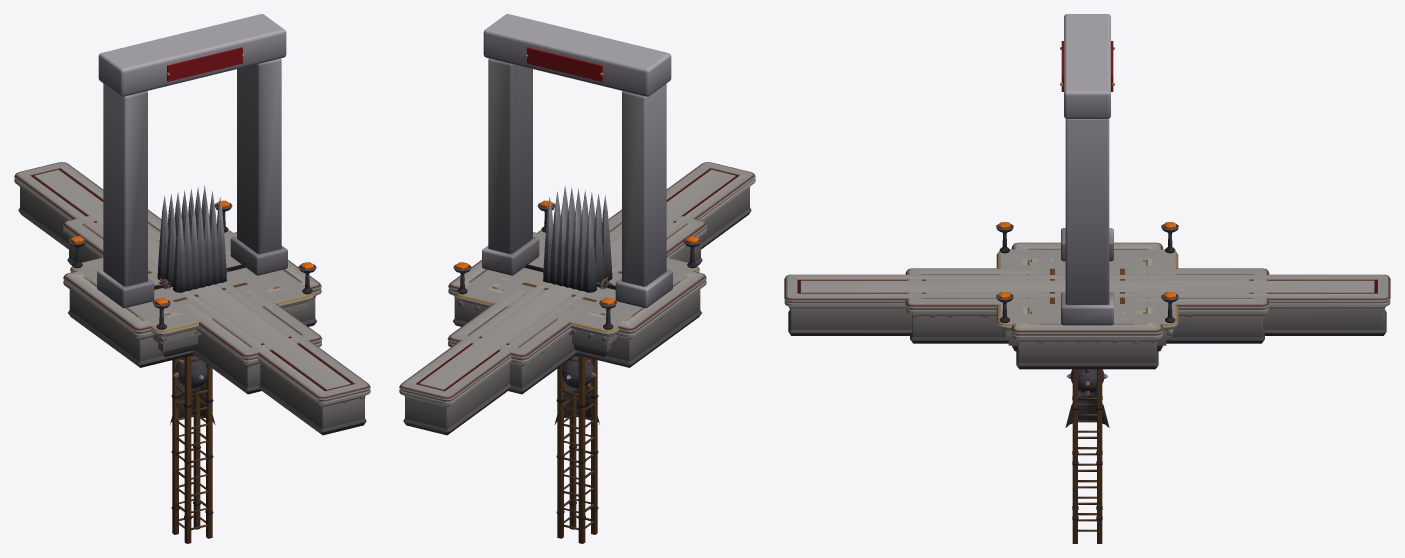
The model's file is fortress-2-Eq580Qz-.glb.
3 views of the same model, side by side, from view 1: azimuth 30°, elevation 25°; view 2: azimuth 150°, elevation 25°; view 3: azimuth 270°, elevation 25° (orthographic).
Visible parts, largest first — view 1: pressFrame_8x6x1.5x7#0, block_4x2x40_grate#0, block_6x2x24#0, truss_18#0, block_14x2x10#0, pad_12x2x12#0, spikes_4x6x3#0, spikes_3x6x3#0, block_12x2x7#0, blade_3x8x1#0, support_0_round#0; view 2: pressFrame_8x6x1.5x7#0, block_4x2x40_grate#0, block_6x2x24#0, truss_18#0, block_14x2x10#0, pad_12x2x12#0, spikes_4x6x3#0, spikes_3x6x3#0, block_12x2x7#0, blade_3x8x1#0, support_0_round#0; view 3: block_4x2x40_grate#0, pressFrame_8x6x1.5x7#0, block_6x2x24#0, block_14x2x10#0, pad_12x2x12#0, truss_18#0, block_12x2x7#0.
Part boxes in pixels (left/top/right/bottom): pressFrame_8x6x1.5x7#0: left=97, top=14, right=287, bottom=308; block_4x2x40_grate#0: left=14, top=162, right=370, bottom=435; block_6x2x24#0: left=62, top=209, right=322, bottom=394; truss_18#0: left=171, top=355, right=213, bottom=543; block_14x2x10#0: left=63, top=232, right=321, bottom=367; pad_12x2x12#0: left=68, top=200, right=316, bottom=356; spikes_4x6x3#0: left=157, top=185, right=226, bottom=292; spikes_3x6x3#0: left=168, top=187, right=220, bottom=290; block_12x2x7#0: left=90, top=246, right=294, bottom=316; blade_3x8x1#0: left=173, top=356, right=207, bottom=390; support_0_round#0: left=170, top=358, right=215, bottom=424; pressFrame_8x6x1.5x7#0: left=482, top=14, right=672, bottom=308; block_4x2x40_grate#0: left=399, top=162, right=755, bottom=435; block_6x2x24#0: left=447, top=209, right=707, bottom=394; truss_18#0: left=556, top=355, right=598, bottom=543; block_14x2x10#0: left=448, top=232, right=706, bottom=367; pad_12x2x12#0: left=453, top=200, right=701, bottom=356; spikes_4x6x3#0: left=543, top=185, right=612, bottom=292; spikes_3x6x3#0: left=549, top=187, right=601, bottom=290; block_12x2x7#0: left=475, top=246, right=679, bottom=316; blade_3x8x1#0: left=562, top=356, right=596, bottom=390; support_0_round#0: left=554, top=358, right=599, bottom=424; block_4x2x40_grate#0: left=784, top=274, right=1390, bottom=335; pressFrame_8x6x1.5x7#0: left=1060, top=14, right=1114, bottom=325; block_6x2x24#0: left=905, top=268, right=1269, bottom=343; block_14x2x10#0: left=1011, top=242, right=1163, bottom=369; pad_12x2x12#0: left=996, top=222, right=1178, bottom=351; truss_18#0: left=1072, top=369, right=1102, bottom=543; block_12x2x7#0: left=1038, top=249, right=1136, bottom=324.
Bounding box in the file's own units: 14 × 35.3 × 40.
